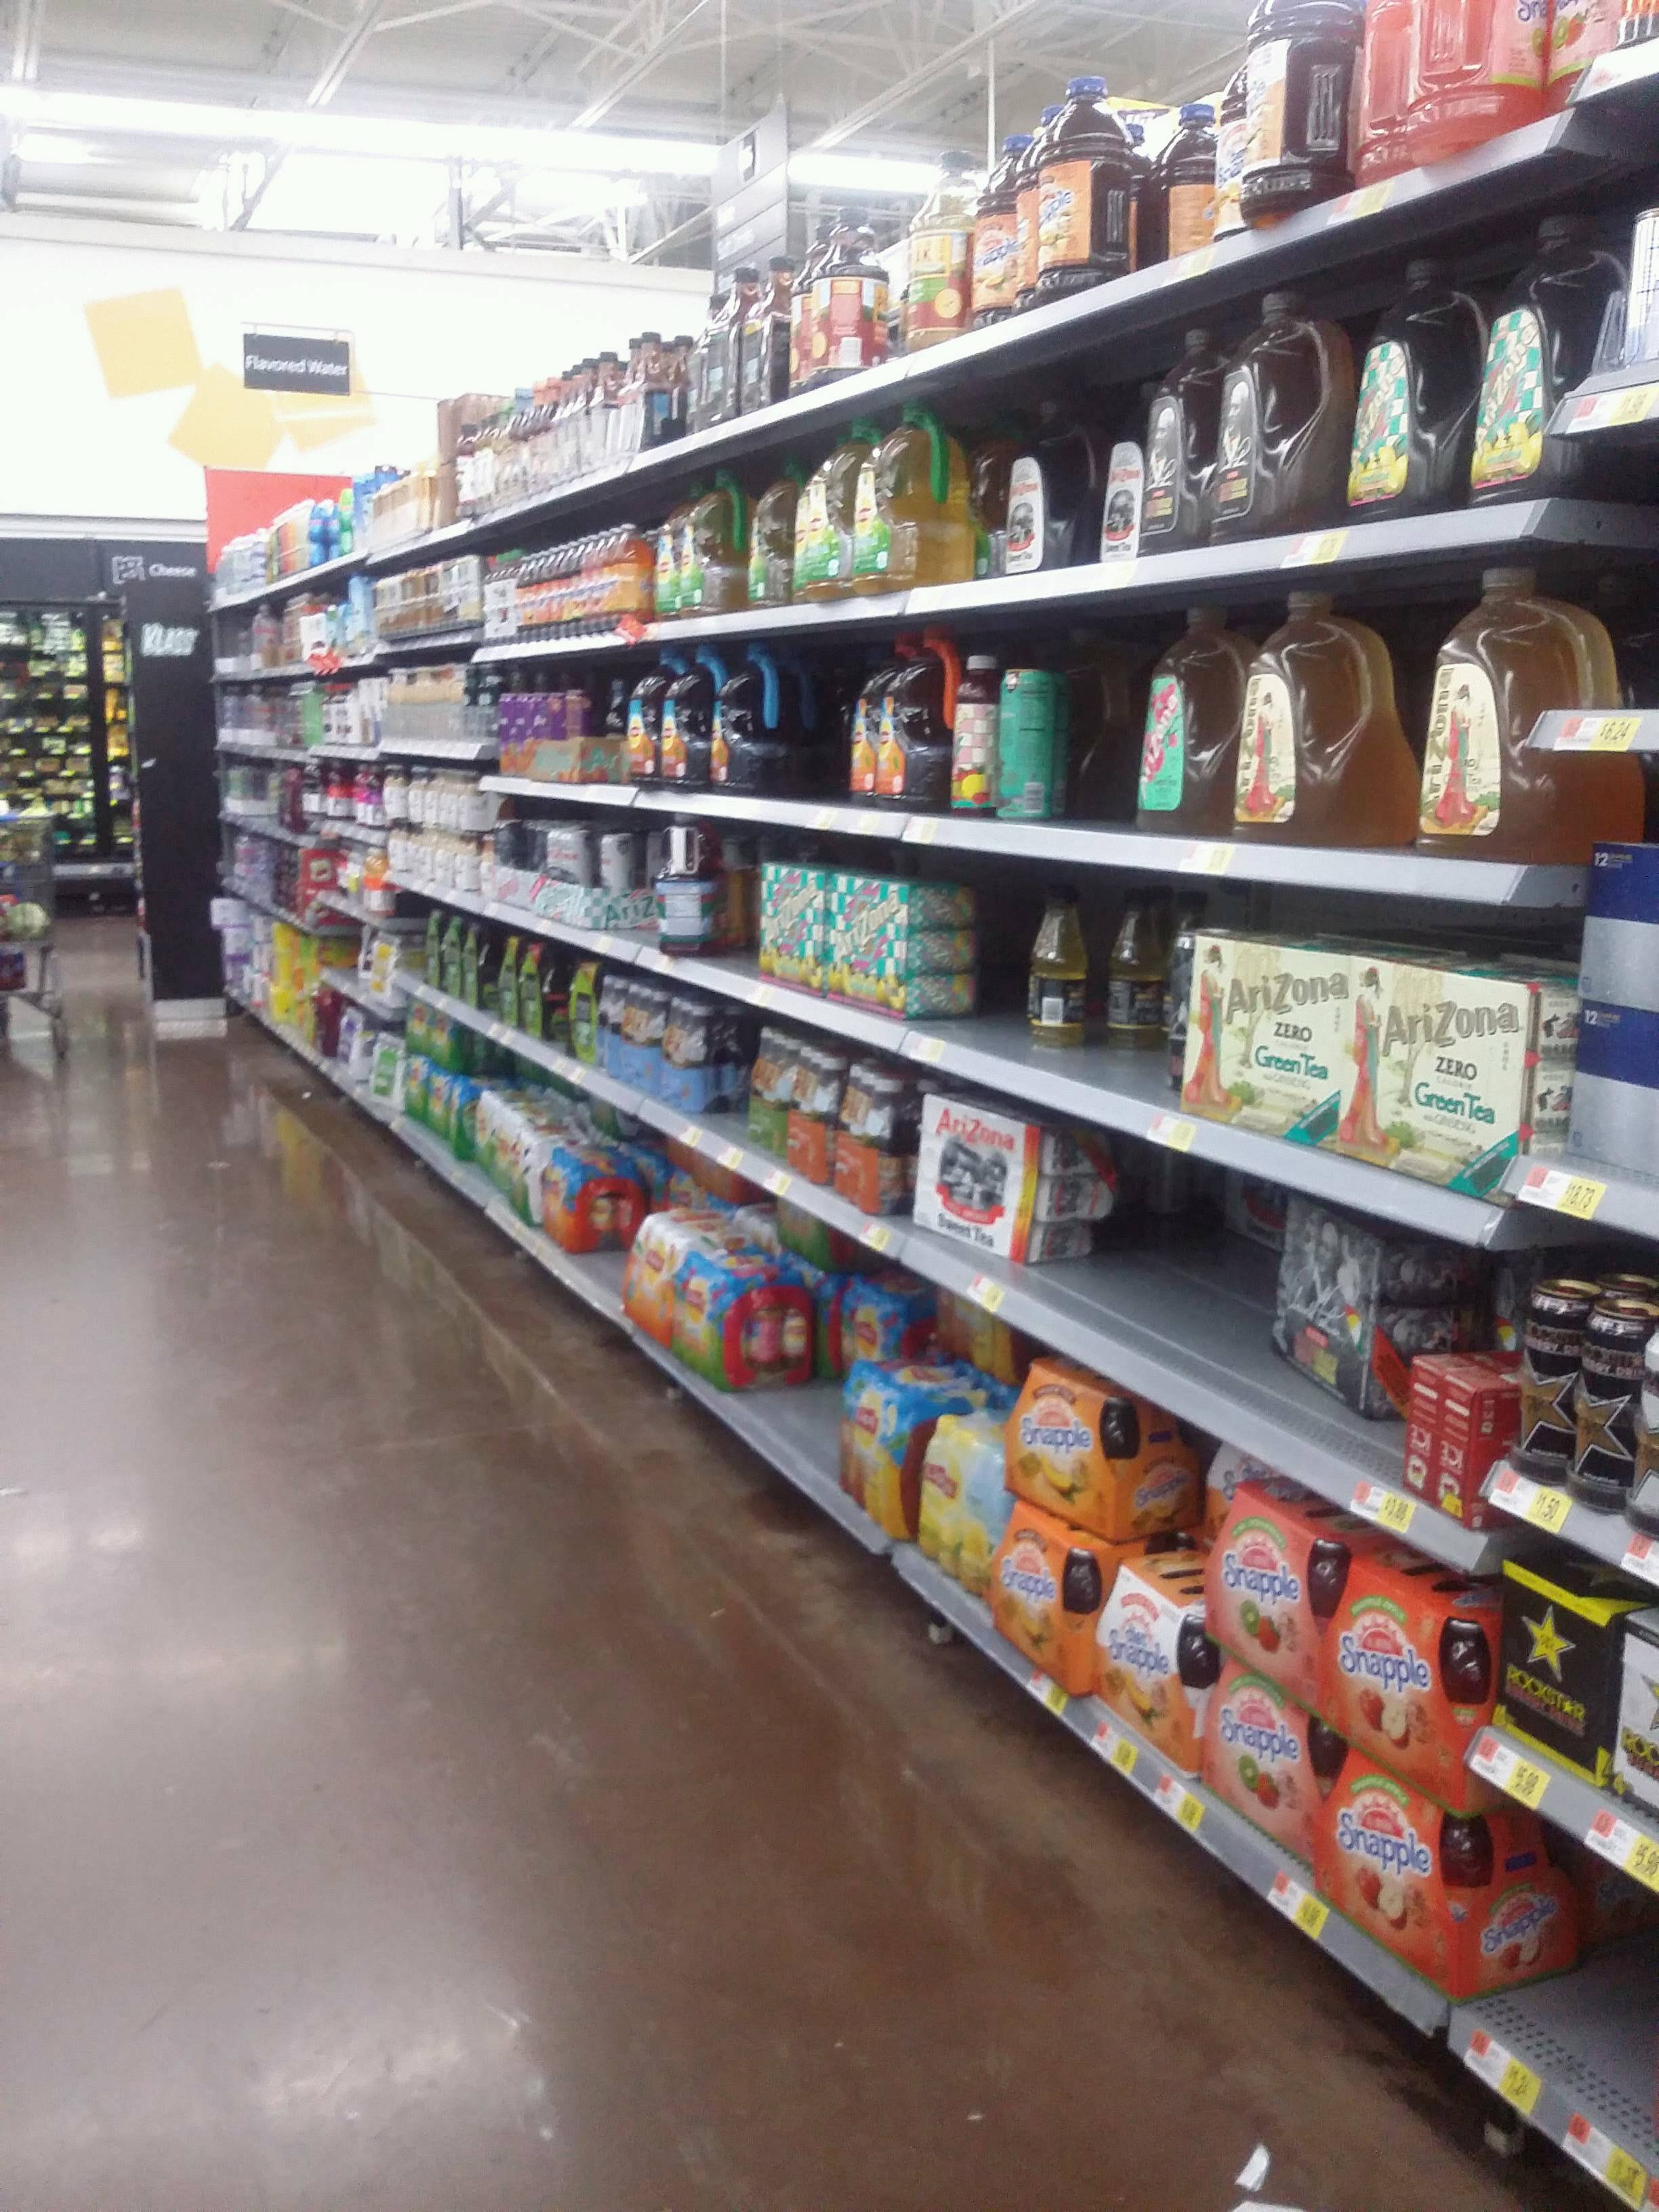Misplacement: (1026, 1155, 1298, 1332), (721, 1268, 948, 1470), (1044, 658, 1141, 833), (760, 651, 864, 803)
Out-of-stock: (910, 885, 1028, 1054)
